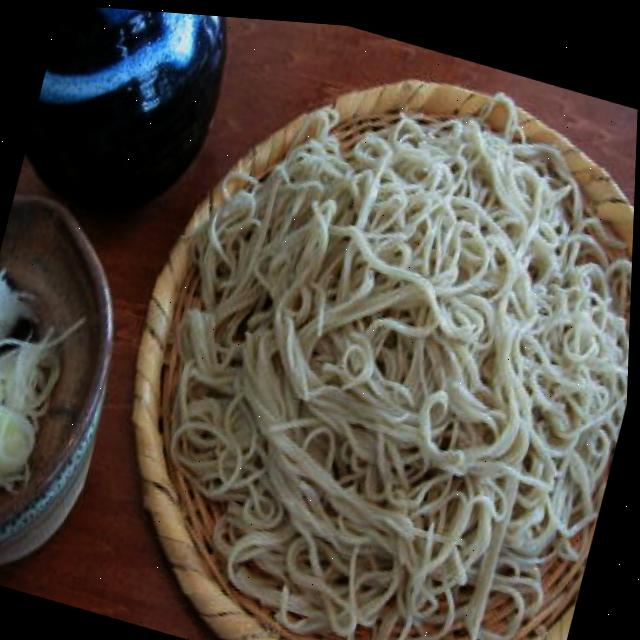面条主食: (63, 5, 640, 640)
